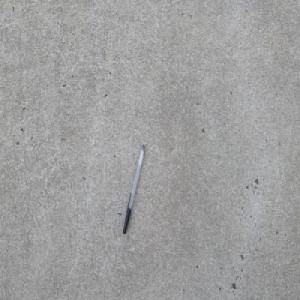Pen: (122, 143, 145, 234)
